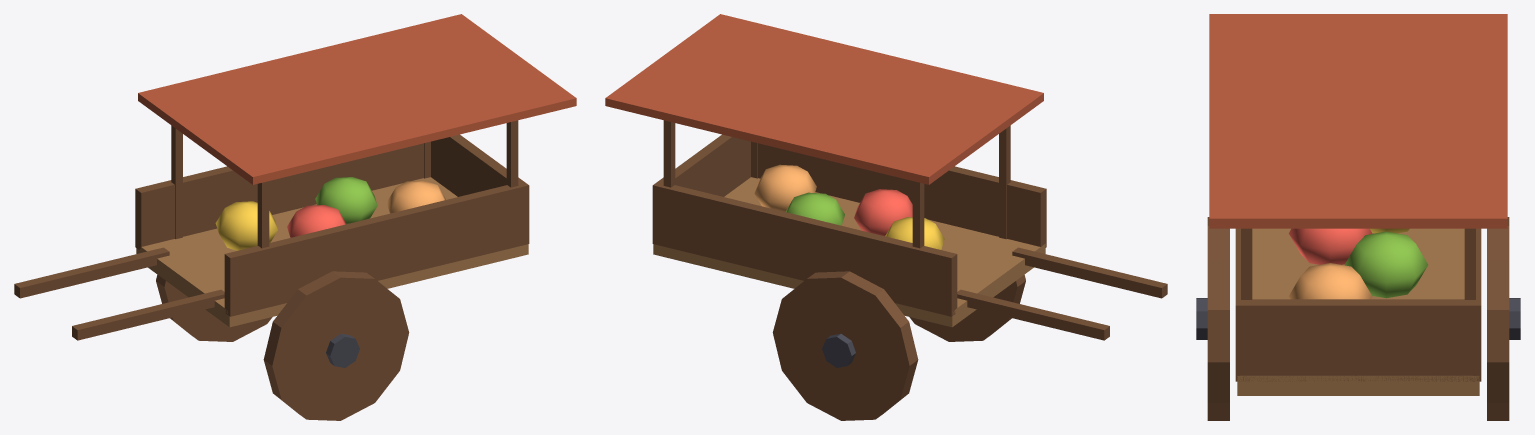
Rendered from market_cart.glb.
3 views of the same model, side by side, from view 1: azimuth 30°, elevation 25°; view 2: azimuth 150°, elevation 25°; view 3: azimuth 270°, elevation 25° (orthographic). The views are drawn at different scales.
Visible parts, largest first — view 1: Awning, Side.001, Wheel-1, Side, Bed, Side.002, HandleL, HandleR, Wheel1, Produce1, Produce3, Produce0 (+5 smaller); view 2: Awning, Side, Wheel1, Side.001, Bed, Side.002, HandleR, HandleL, Wheel-1, Produce0, Produce2, Produce1 (+5 smaller); view 3: Awning, Side.002, Bed, Wheel1, Wheel-1, Produce1, Produce0, Produce2, Side, Side.001, Pole.002, Pole.003 (+2 smaller).
Part boxes in pixels (<box>): Awning: <box>138,14,576,184</box>; Side.001: <box>224,181,529,316</box>; Wheel-1: <box>263,271,409,420</box>; Side: <box>135,143,423,249</box>; Bed: <box>136,177,528,327</box>; Side.002: <box>431,134,523,196</box>; HandleL: <box>14,247,169,298</box>; HandleR: <box>72,289,224,340</box>; Wheel1: <box>156,275,272,341</box>; Produce1: <box>315,177,377,224</box>; Produce3: <box>215,201,277,250</box>; Produce0: <box>386,180,445,213</box>; Awning: <box>605,14,1043,184</box>; Side: <box>652,181,957,316</box>; Wheel1: <box>772,271,918,420</box>; Side.001: <box>758,143,1046,247</box>; Bed: <box>653,177,1045,327</box>; Side.002: <box>658,134,750,196</box>; HandleR: <box>1012,247,1167,298</box>; HandleL: <box>957,289,1109,340</box>; Wheel-1: <box>909,275,1025,341</box>; Produce0: <box>754,164,816,211</box>; Produce2: <box>854,189,912,236</box>; Produce1: <box>786,192,844,225</box>; Awning: <box>1209,14,1507,228</box>; Side.002: <box>1238,299,1478,381</box>; Bed: <box>1237,228,1479,395</box>; Wheel1: <box>1487,217,1509,420</box>; Wheel-1: <box>1207,217,1229,420</box>; Produce1: <box>1344,231,1427,298</box>; Produce0: <box>1288,263,1372,299</box>; Produce2: <box>1288,228,1372,264</box>; Side: <box>1466,228,1481,381</box>; Side.001: <box>1235,228,1250,381</box>; Pole.002: <box>1241,228,1252,299</box>; Pole.003: <box>1464,228,1475,299</box>.
Bounding box in the file's own units: 3.8 × 2.03 × 1.74.
